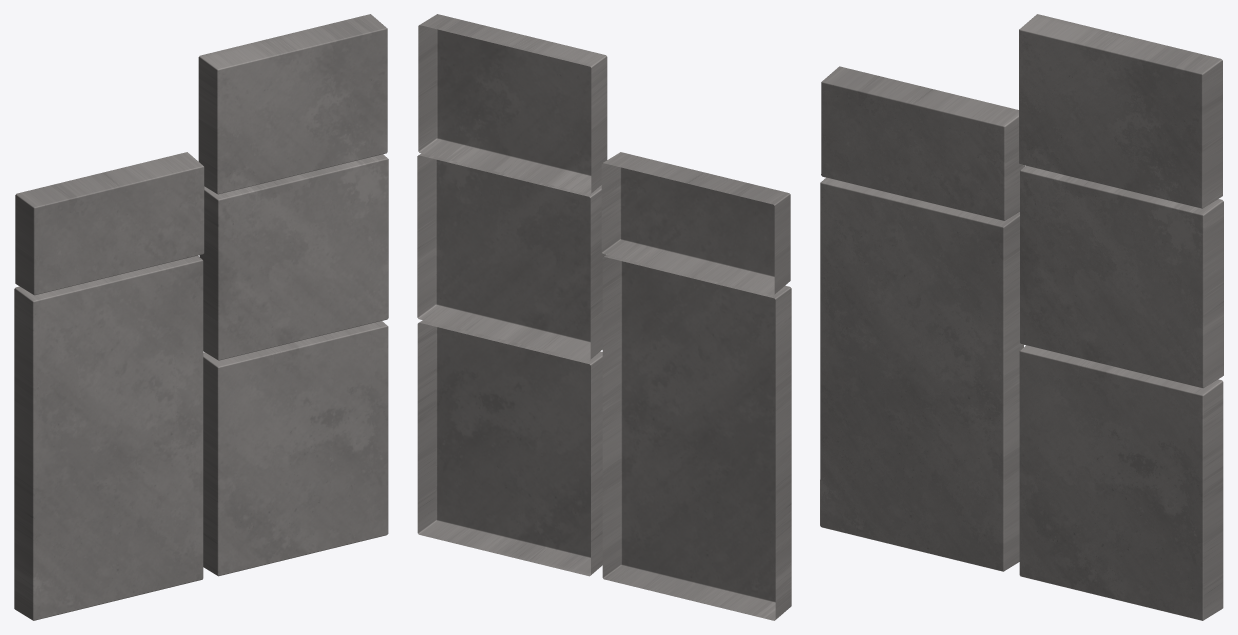
The model's file is Brick.fbx.
3 views of the same model, side by side, from view 1: azimuth 30°, elevation 25°; view 2: azimuth 150°, elevation 25°; view 3: azimuth 330°, elevation 25° (orthographic). The views are drawn at different scales.
Visible parts, largest first — view 1: Base_Brick; view 2: Base_Brick; view 3: Base_Brick.
Boxes of the visible parts, x1,y1,x2,y2 form: Base_Brick: (14,14,388,620); Base_Brick: (417,14,791,620); Base_Brick: (820,14,1223,620).
Size of the model in its own units: 49.3 by 67.03 by 4.19.
Materials: 1 (1 with a texture image).
